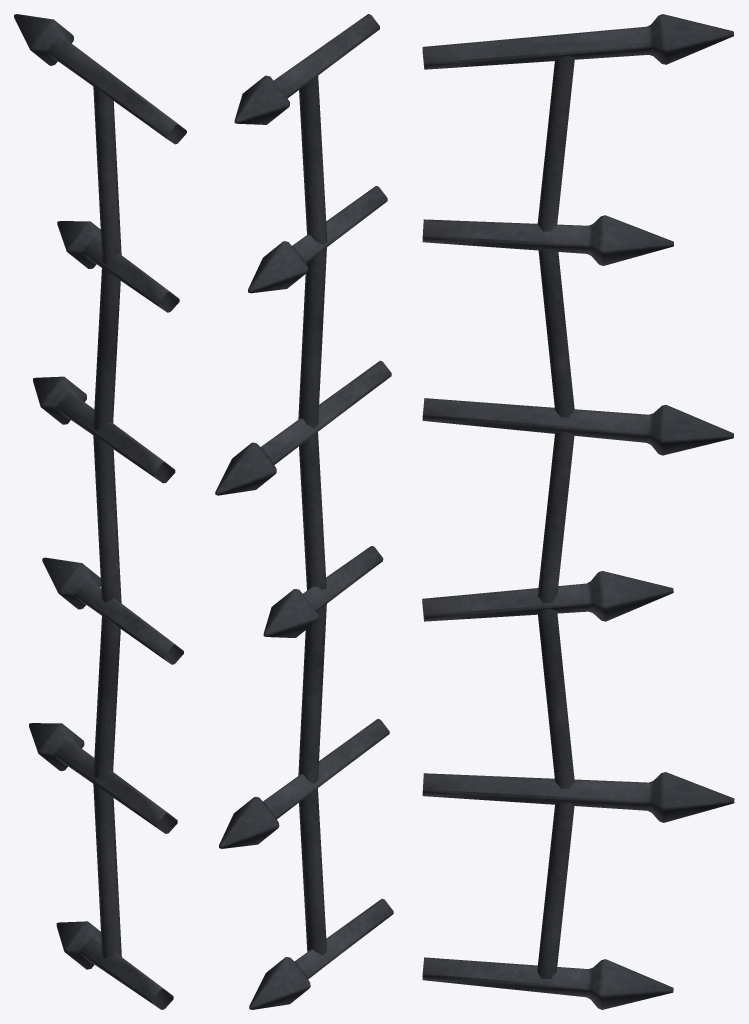
Rendered from FenceHaunted.FBX.
The picture shows the model from 3 angles, left to right: view 1: azimuth 30°, elevation 25°; view 2: azimuth 150°, elevation 25°; view 3: azimuth 270°, elevation 25°; orthographic projection. The views are drawn at different scales.
Parts seen in each view (by area): view 1: pCube1328_10__Metal00; view 2: pCube1328_10__Metal00; view 3: pCube1328_10__Metal00.
Part boxes in pixels (x1,y1,x2,y2): pCube1328_10__Metal00: [14, 14, 186, 1009]; pCube1328_10__Metal00: [215, 14, 393, 1009]; pCube1328_10__Metal00: [422, 14, 734, 1009].
Bounding box in the file's own units: 35.5 × 560 × 160.
